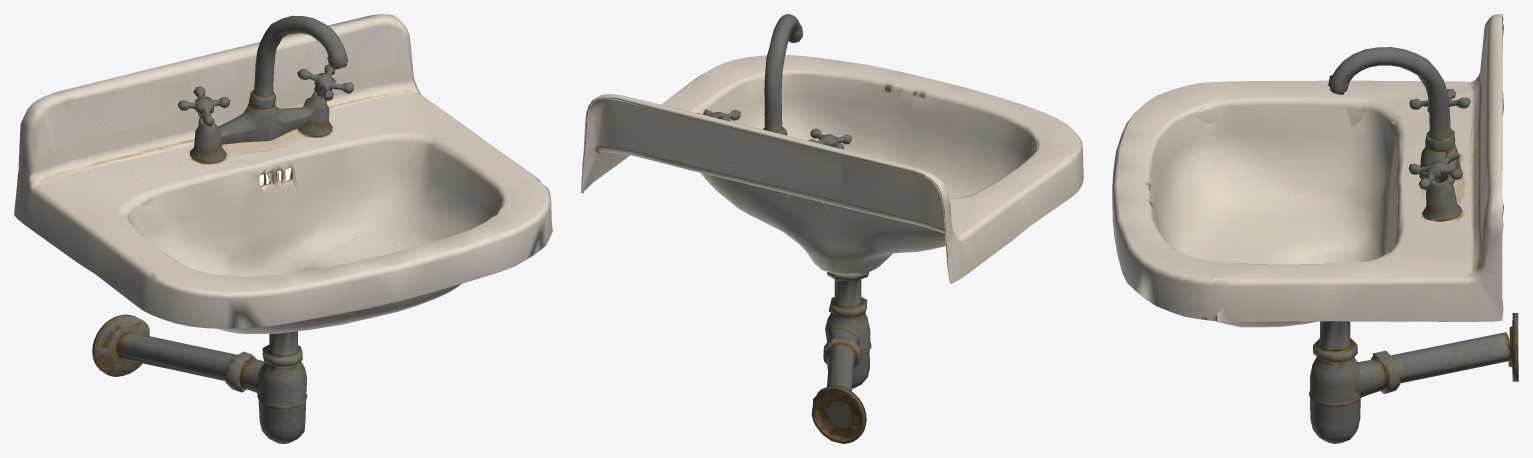
File: sink.glb
3 views of the same model, side by side, from view 1: azimuth 30°, elevation 25°; view 2: azimuth 150°, elevation 25°; view 3: azimuth 270°, elevation 25° (orthographic). The views are drawn at different scales.
Visible parts, largest first — view 1: Mesh_0; view 2: Mesh_0; view 3: Mesh_0.
Boxes of the visible parts, bbox=[...] form: Mesh_0: bbox=[14, 14, 552, 443]; Mesh_0: bbox=[581, 14, 1083, 443]; Mesh_0: bbox=[1112, 14, 1518, 443].
Size of the model in its own units: 0.55 by 0.5154 by 0.456.
1 material, 1 textured.
